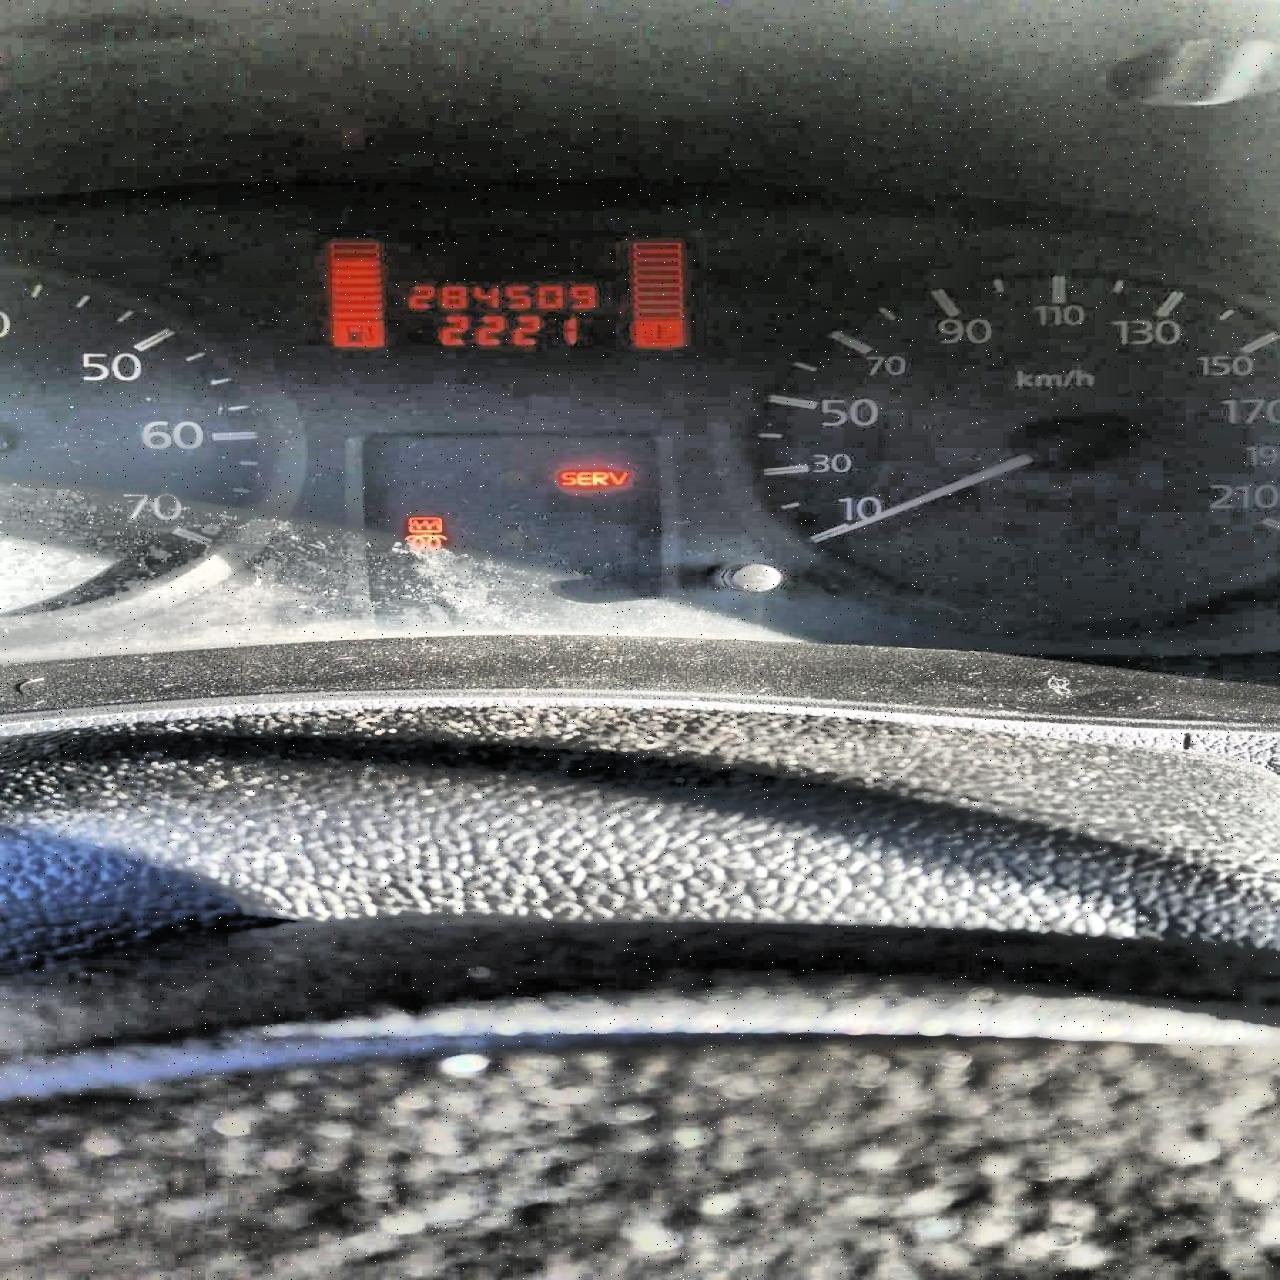0: (536, 286, 563, 308)
1: (565, 316, 578, 343)
2: (511, 314, 540, 345), (440, 314, 468, 345), (475, 315, 503, 345), (408, 285, 435, 309)
4: (474, 286, 498, 307)
5: (505, 285, 530, 308)
8: (440, 286, 467, 308)
9: (568, 286, 594, 307)
odometer: (306, 226, 708, 356)
